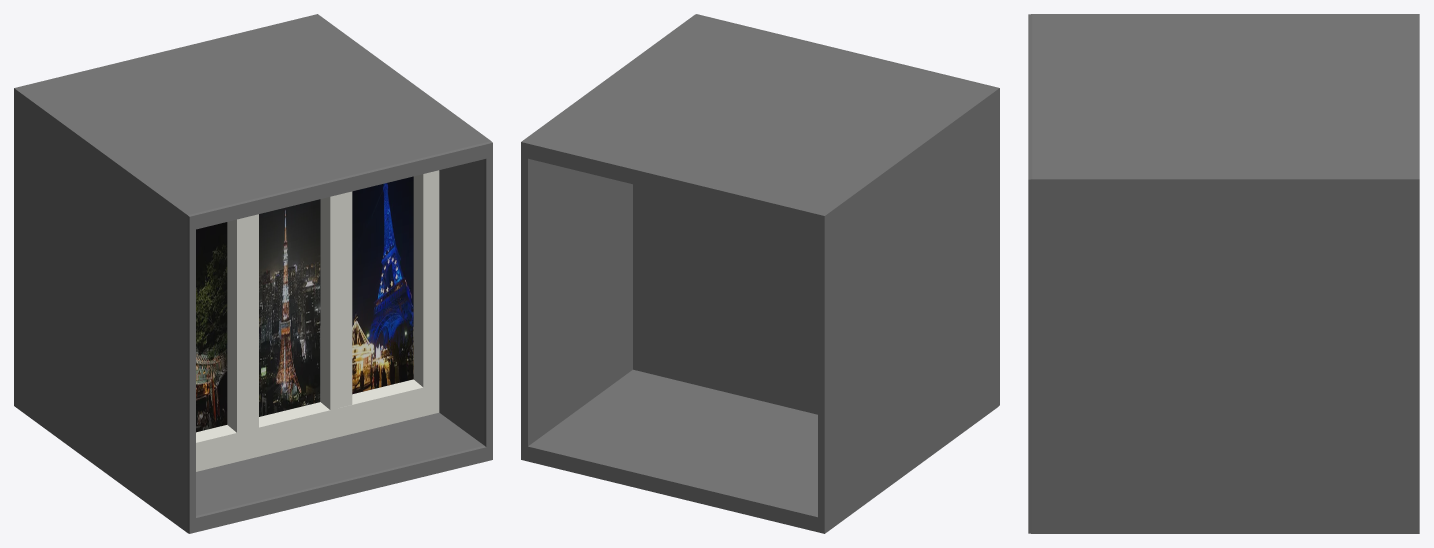
The model's file is sh-contrib-frame3-vertical-tower-photos.glb.
The picture shows the model from 3 angles, left to right: view 1: azimuth 30°, elevation 25°; view 2: azimuth 150°, elevation 25°; view 3: azimuth 270°, elevation 25°; orthographic projection. The views are drawn at different scales.
Visible parts, largest first — view 1: Frame_Cube.001, Inner_frame_Cube.003, Photo3_Plane.002, Photo2_Plane, Photo1_Plane.001; view 2: Frame_Cube.001; view 3: Frame_Cube.001.
Boxes of the visible parts, left/top/right/bottom form: Frame_Cube.001: left=14, top=14, right=492, bottom=533; Inner_frame_Cube.003: left=196, top=170, right=439, bottom=471; Photo3_Plane.002: left=352, top=176, right=413, bottom=394; Photo2_Plane: left=259, top=199, right=320, bottom=416; Photo1_Plane.001: left=196, top=222, right=227, bottom=432; Frame_Cube.001: left=521, top=14, right=999, bottom=533; Frame_Cube.001: left=1028, top=14, right=1419, bottom=533.
Bounding box in the file's own units: 1 × 1 × 1.
5 materials, 3 textured.
